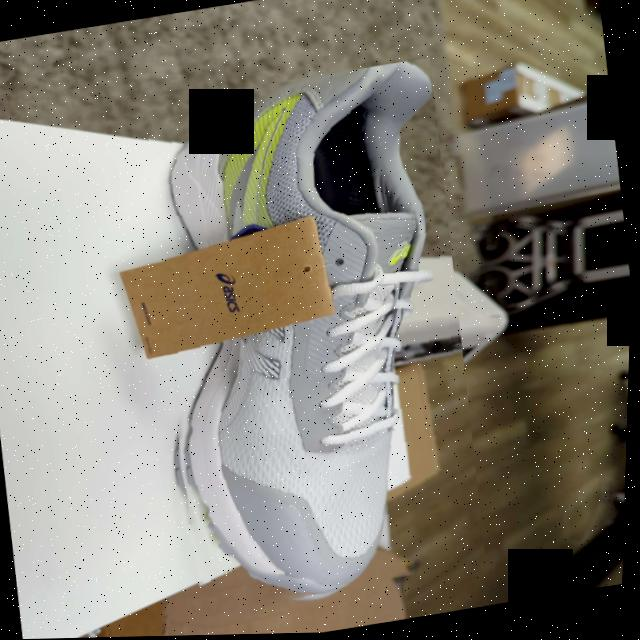shoe: (120, 58, 502, 623)
